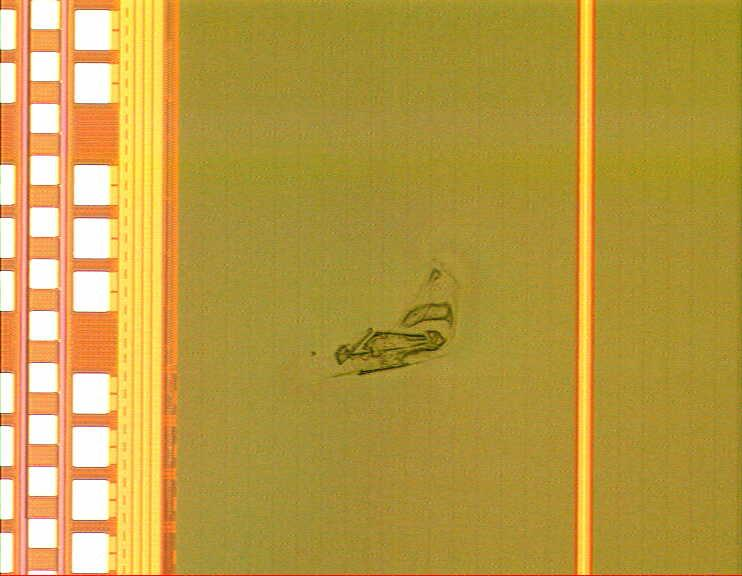PIQ PARTICLE: (305, 247, 477, 393)
